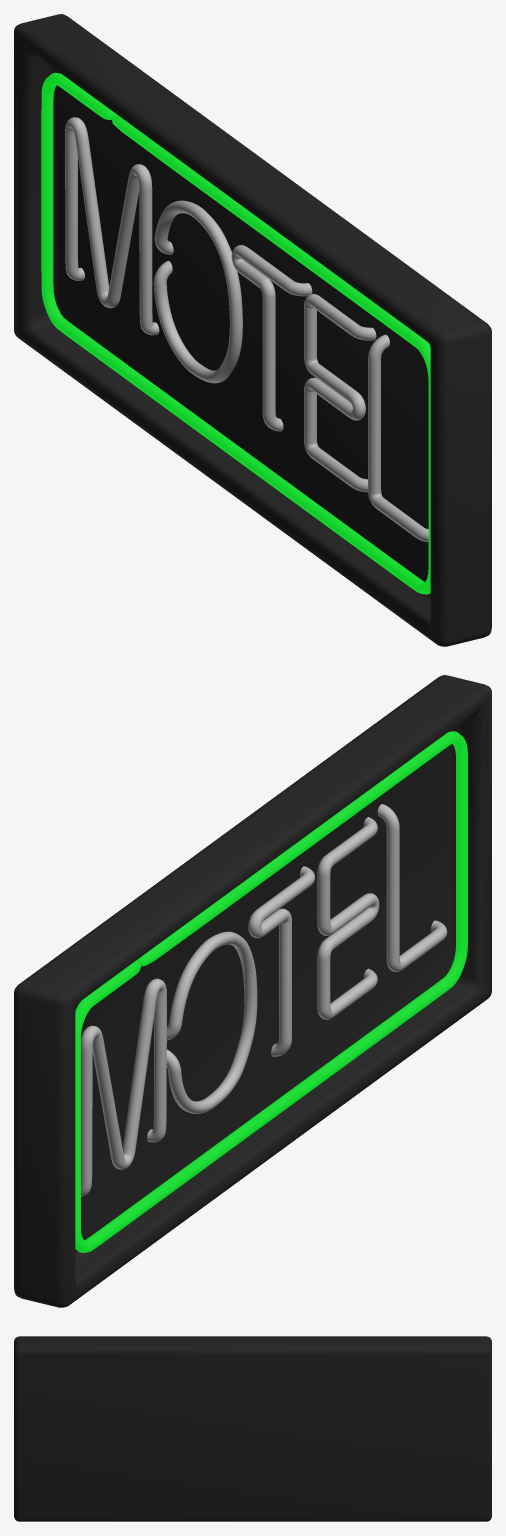
File: MotelNeon.fbx
3 renders of one model, top to bottom at view 1: azimuth 30°, elevation 25°; view 2: azimuth 150°, elevation 25°; view 3: azimuth 270°, elevation 25°, orthographic. The views are drawn at different scales.
Parts seen in each view (by area): view 1: Background, g Frame, g Letters M, g Letters O, g Letters E, g Letters T, g Letters L; view 2: Background, g Frame, g Letters M, g Letters E, g Letters O, g Letters T, g Letters L; view 3: Background.
Part boxes in pixels (bbox=[...]): Background: bbox=[14, 14, 491, 646]; g Frame: bbox=[41, 72, 430, 594]; g Letters M: bbox=[65, 117, 159, 335]; g Letters O: bbox=[153, 200, 242, 383]; g Letters E: bbox=[304, 294, 376, 492]; g Letters T: bbox=[231, 245, 312, 431]; g Letters L: bbox=[368, 334, 428, 542]; Background: bbox=[14, 675, 491, 1307]; g Frame: bbox=[75, 731, 467, 1252]; g Letters M: bbox=[81, 978, 166, 1196]; g Letters E: bbox=[317, 817, 379, 1019]; g Letters O: bbox=[166, 931, 257, 1113]; g Letters T: bbox=[248, 866, 315, 1056]; g Letters L: bbox=[377, 804, 447, 972]; Background: bbox=[14, 1336, 491, 1521].
Bounding box in the file's own units: 7.36 × 40.19 × 100.
